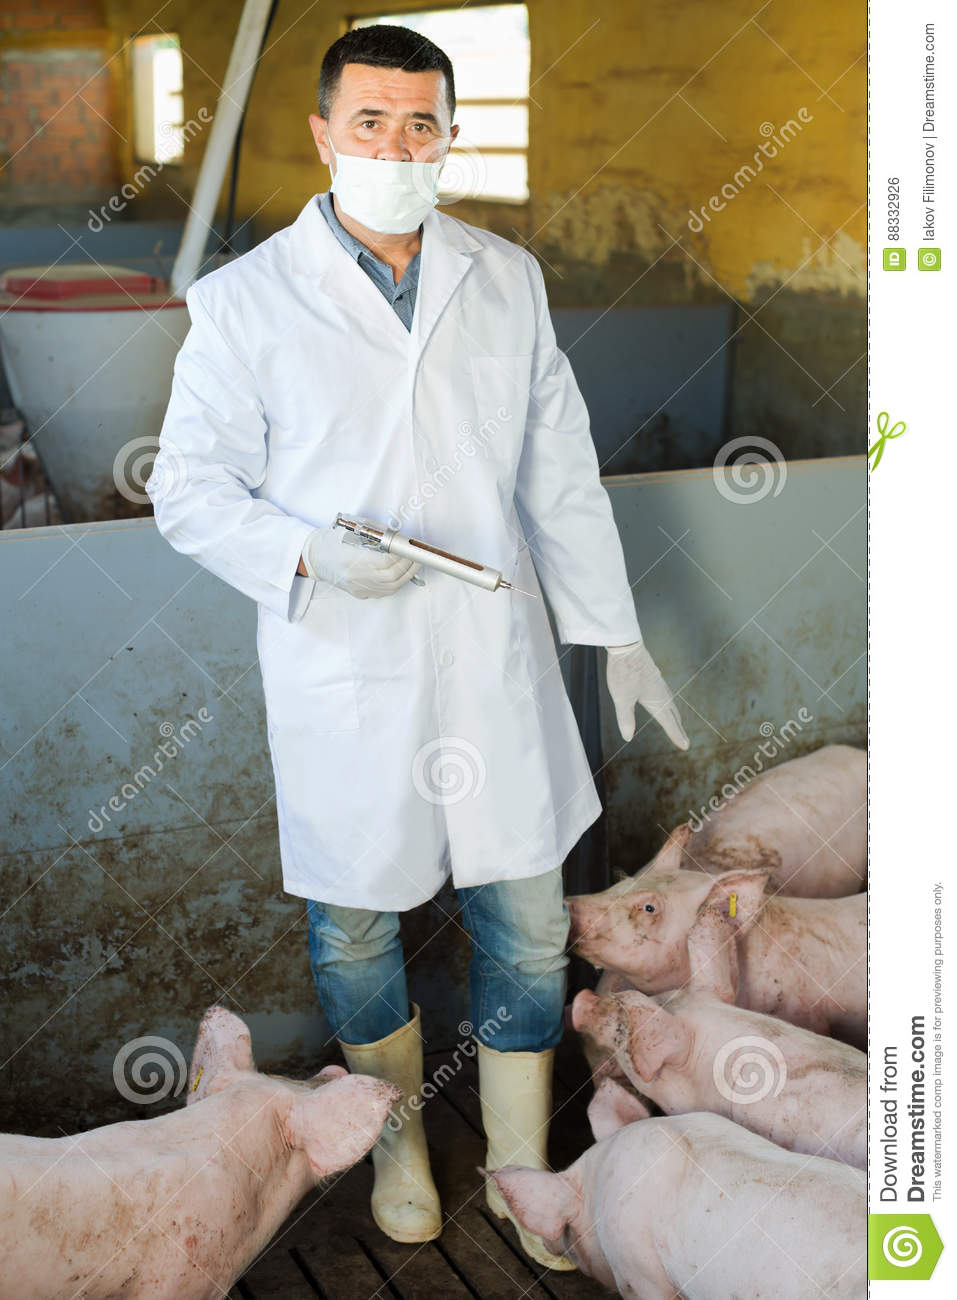mask: (334, 153, 454, 231)
